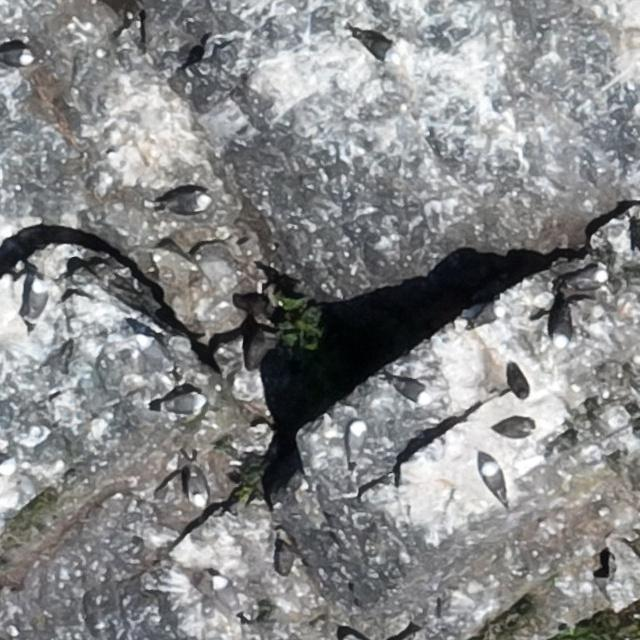umineko: (137, 336, 175, 374), (213, 576, 245, 618), (356, 35, 398, 60), (161, 191, 208, 212), (163, 394, 203, 414), (394, 378, 427, 401), (492, 418, 532, 435), (482, 463, 502, 496), (27, 282, 45, 318), (189, 471, 206, 504), (2, 48, 33, 66), (552, 314, 569, 346), (576, 267, 606, 284), (347, 423, 362, 456)
